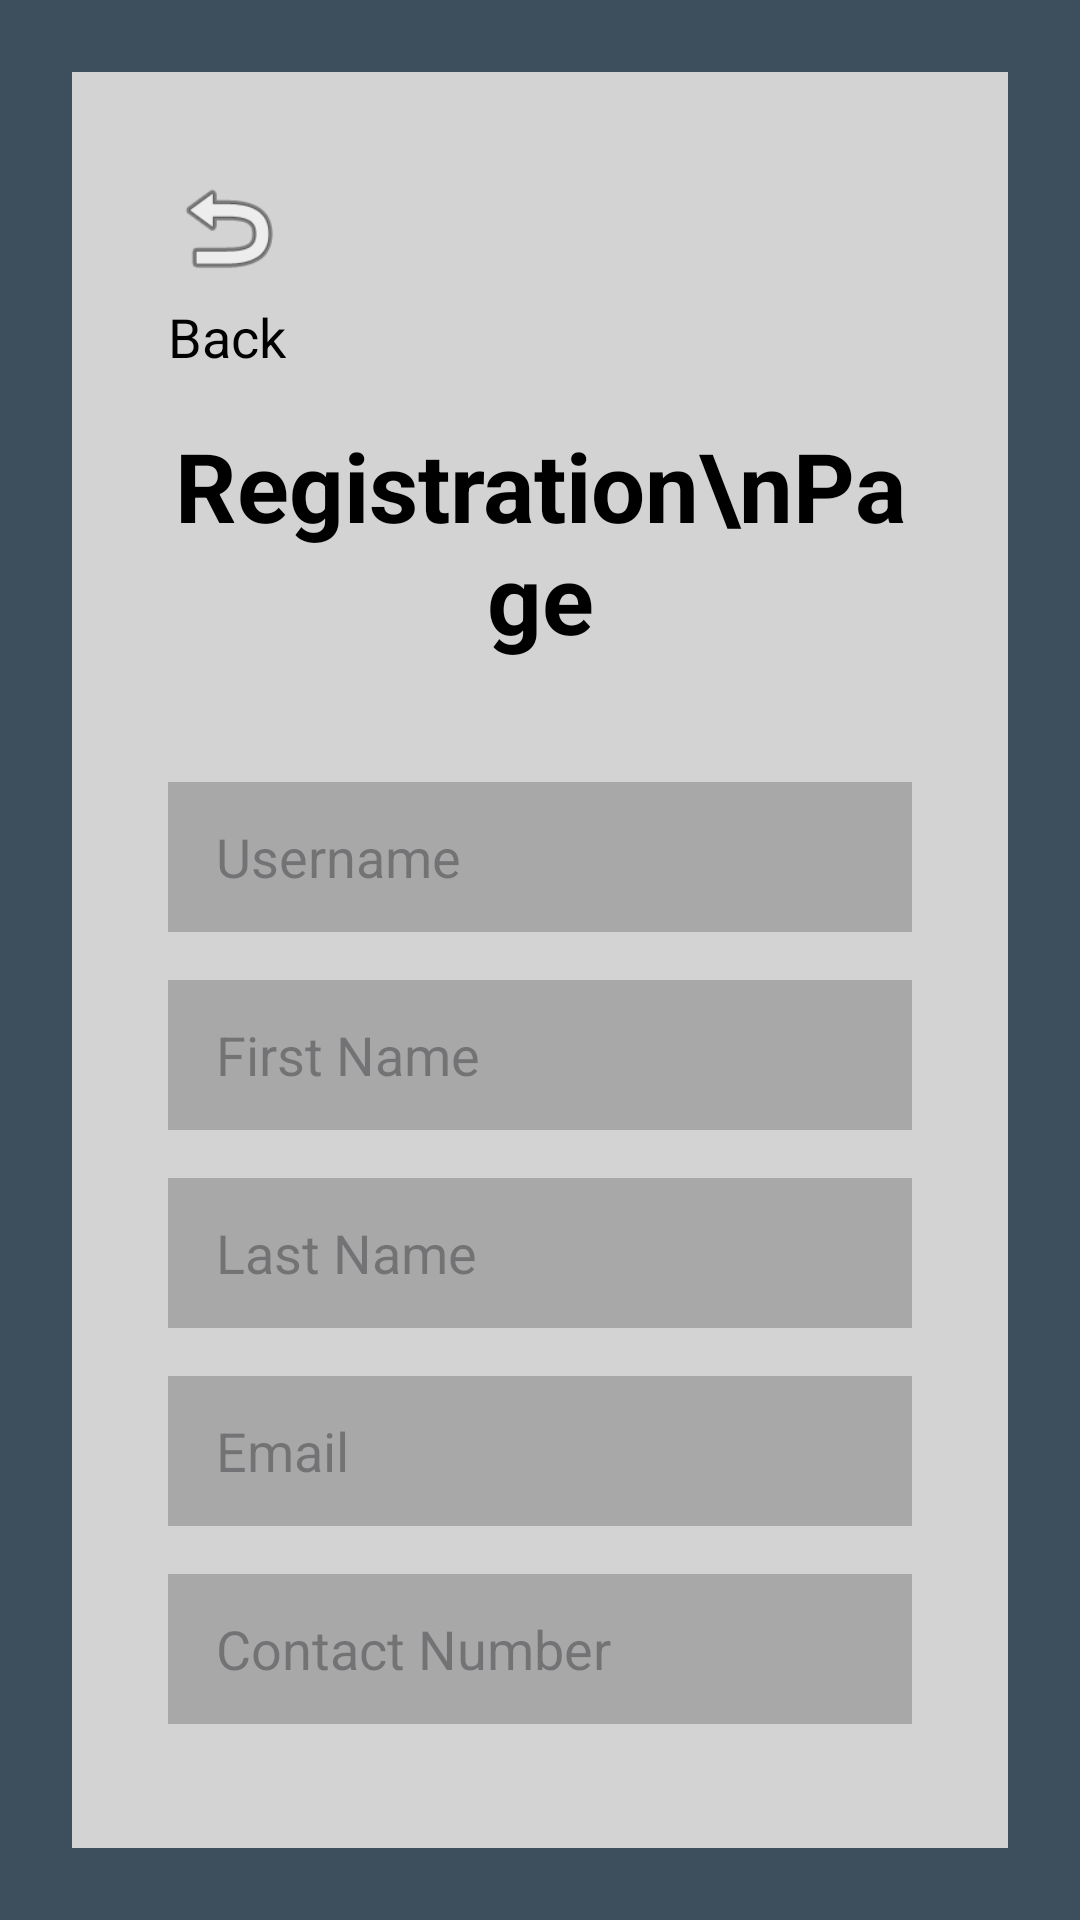

Icons on this 1080px x 1920px Android screen, each with the point to tap as [x,y]:
revert: [229,229]
